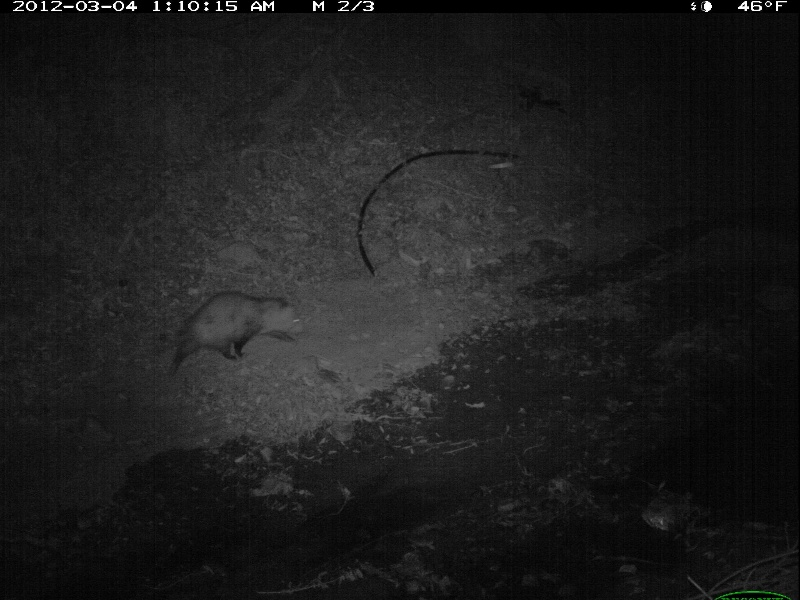opossum: (117, 292, 307, 378)
